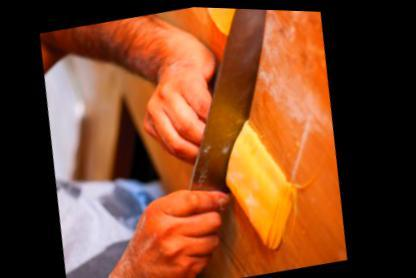knife: (132, 4, 330, 275)
